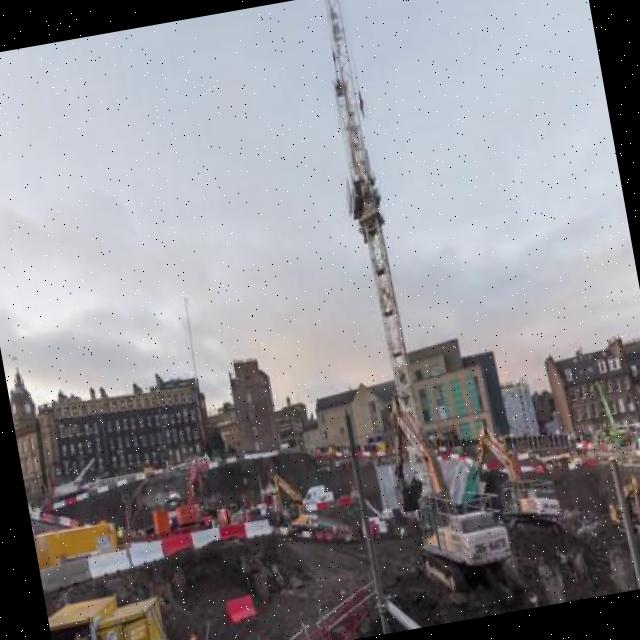Excavator: (378, 382, 518, 608), (469, 413, 558, 534), (164, 456, 210, 530), (270, 468, 318, 534), (605, 477, 640, 539)
